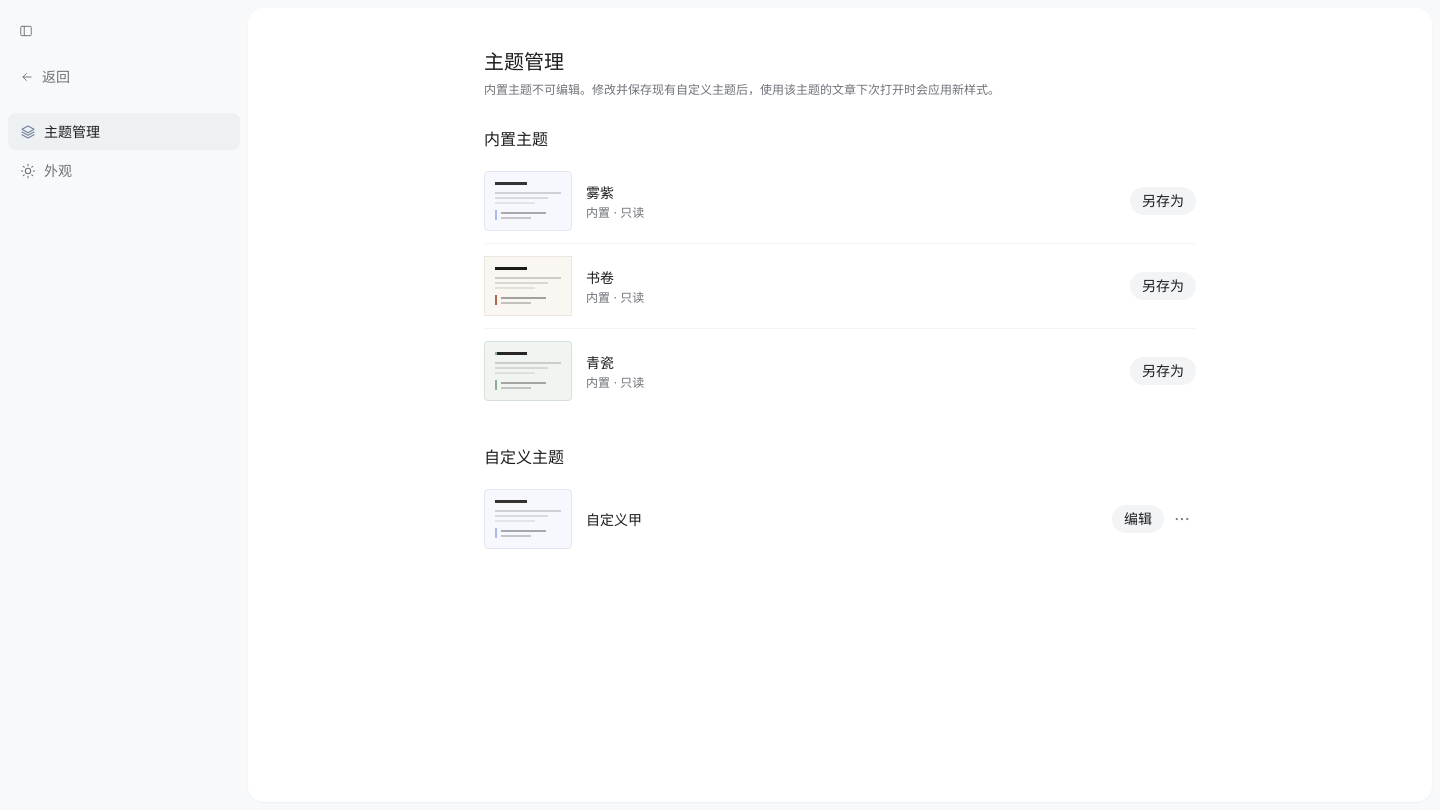
Test: 主题列表 › 取消删除不调用接口
This screenshot has width=1440, height=810.
Expected: the text "自定义甲" is shown, [586,511,642,528]
Step 1. Click the button named "更多操作" → (1182, 519), box [1168,505,1196,533]
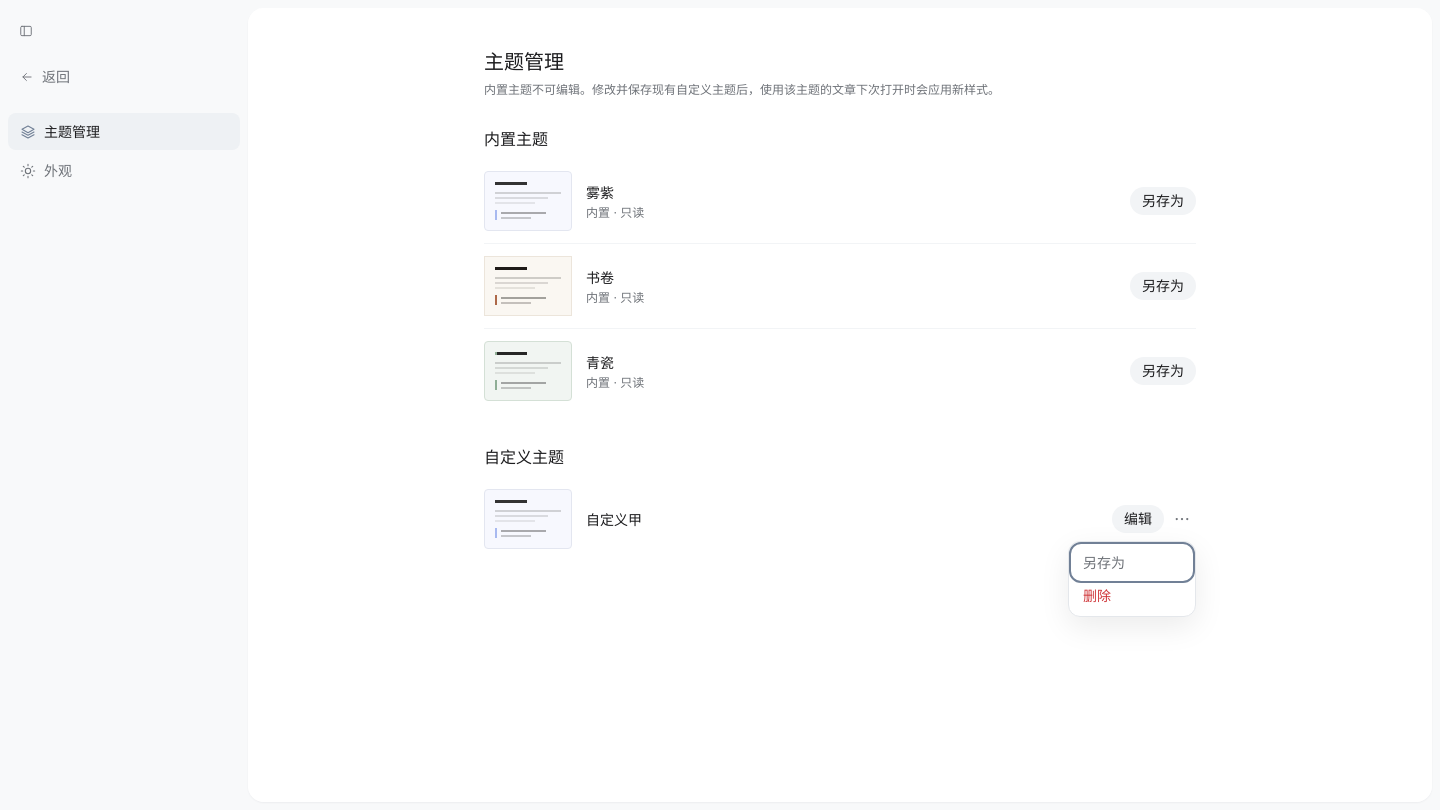
Step 2. Click the menu item "删除" → (1132, 596), box [1073,579,1191,612]
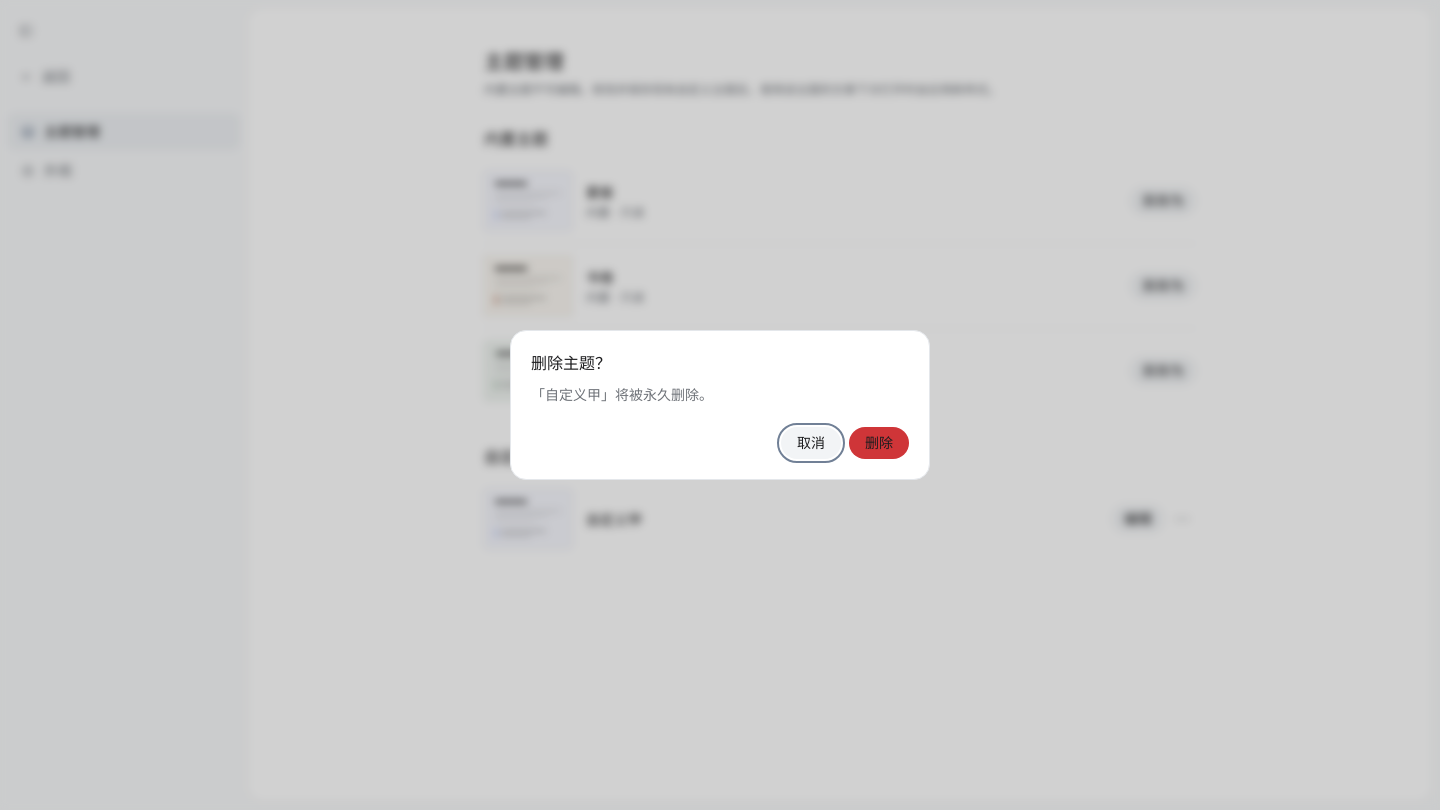
Step 3. Click the button "取消" → (811, 443), box [781,427,841,459]
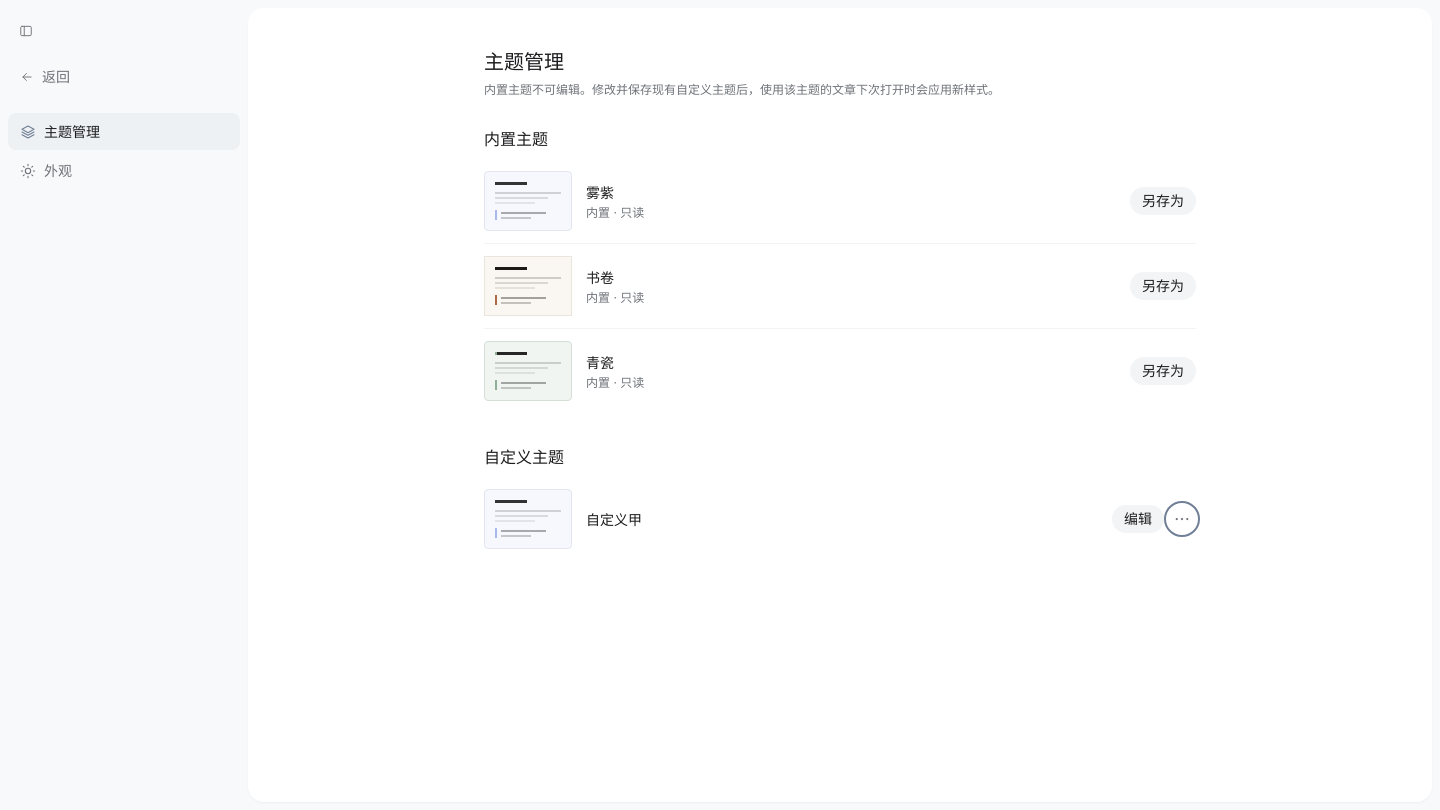
Expected: the dialog is gone
